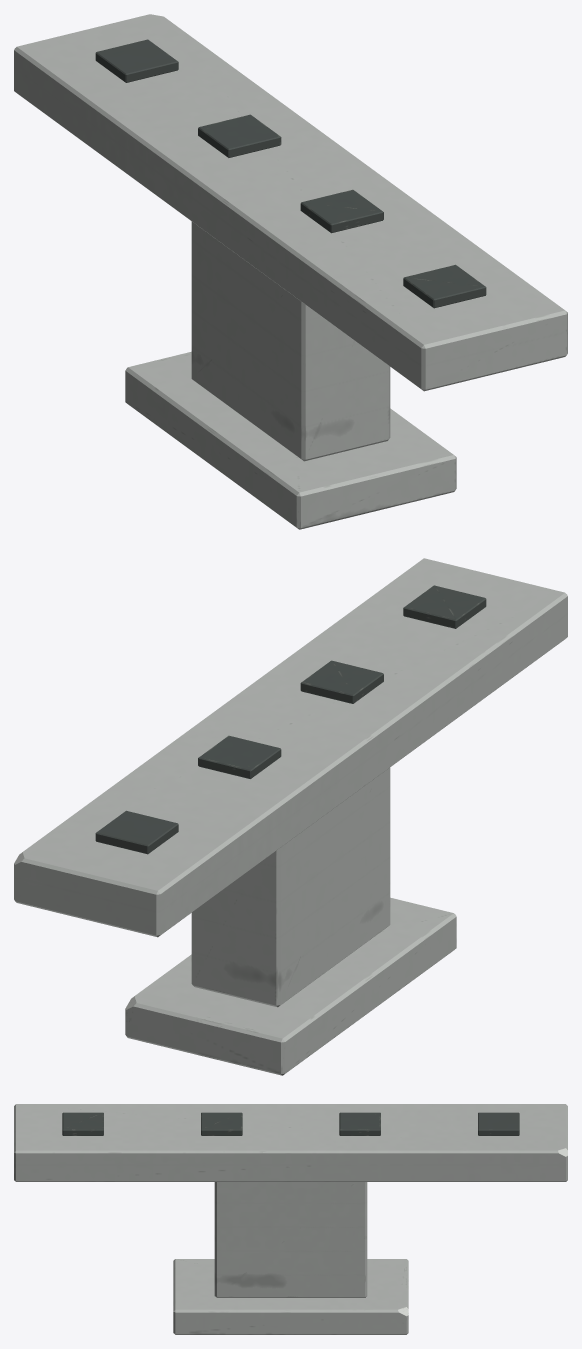
The model's file is river_bridge_support_pier.glb.
3 renders of one model, top to bottom at view 1: azimuth 30°, elevation 25°; view 2: azimuth 150°, elevation 25°; view 3: azimuth 270°, elevation 25°, orthographic. The views are drawn at different scales.
Visible parts, largest first — view 1: BridgeSupportPier; view 2: BridgeSupportPier; view 3: BridgeSupportPier.
Part boxes in pixels (x1=…): BridgeSupportPier: x1=14, y1=14, x2=567, y2=529; BridgeSupportPier: x1=14, y1=558, x2=567, y2=1075; BridgeSupportPier: x1=14, y1=1104, x2=567, y2=1334.
Size of what is drawn, in the model's own units: 1.8 by 3 by 8.
1 material, 1 textured.
